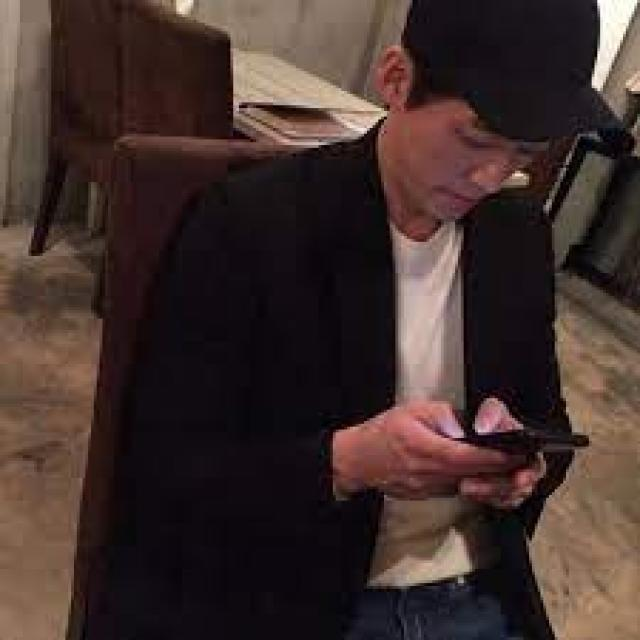Phone: (453, 423, 598, 458)
